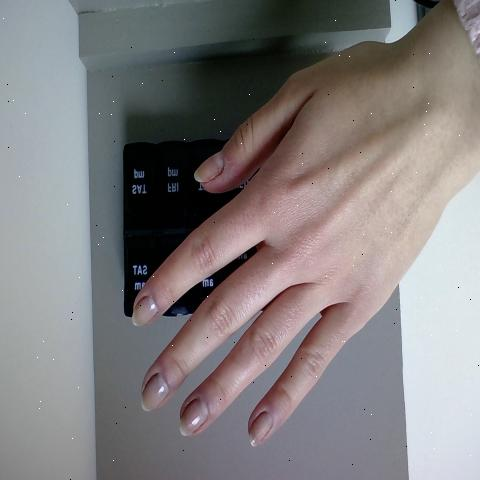FRI-pm: (159, 145, 188, 226)
Hands: (122, 24, 479, 464)
SAT-pm: (124, 144, 155, 228)
